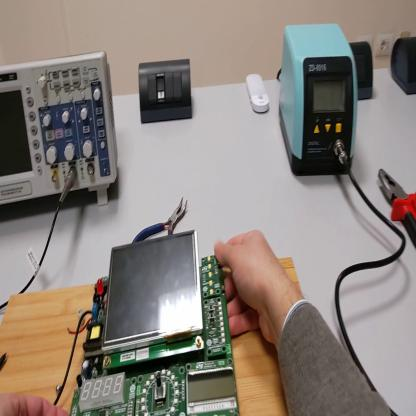hand: (214, 229, 285, 346), (3, 390, 67, 415)
low voltage board: (54, 228, 240, 411)
oscilloscope: (3, 51, 120, 210)
pliers: (379, 167, 416, 247), (133, 197, 189, 243)
socket: (349, 43, 375, 102), (390, 38, 415, 94)
welder station: (278, 26, 360, 179)
working area: (2, 258, 301, 416)
